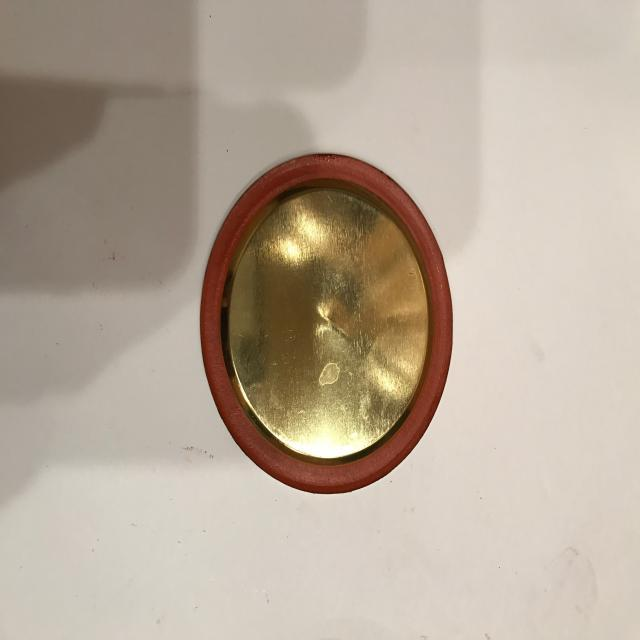metal: (200, 154, 456, 495)
